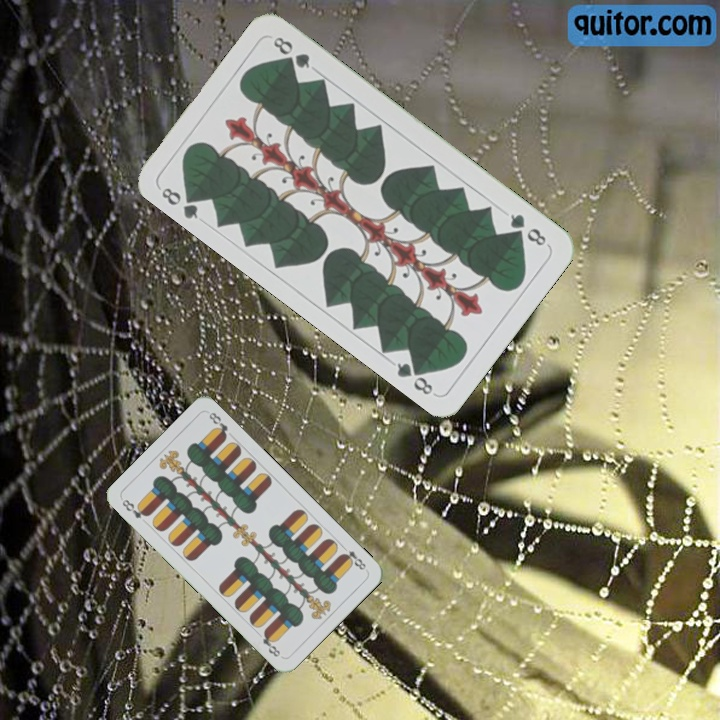E8: (337, 541, 369, 573), (118, 495, 151, 521)
G8: (157, 183, 203, 222), (505, 209, 549, 249)
